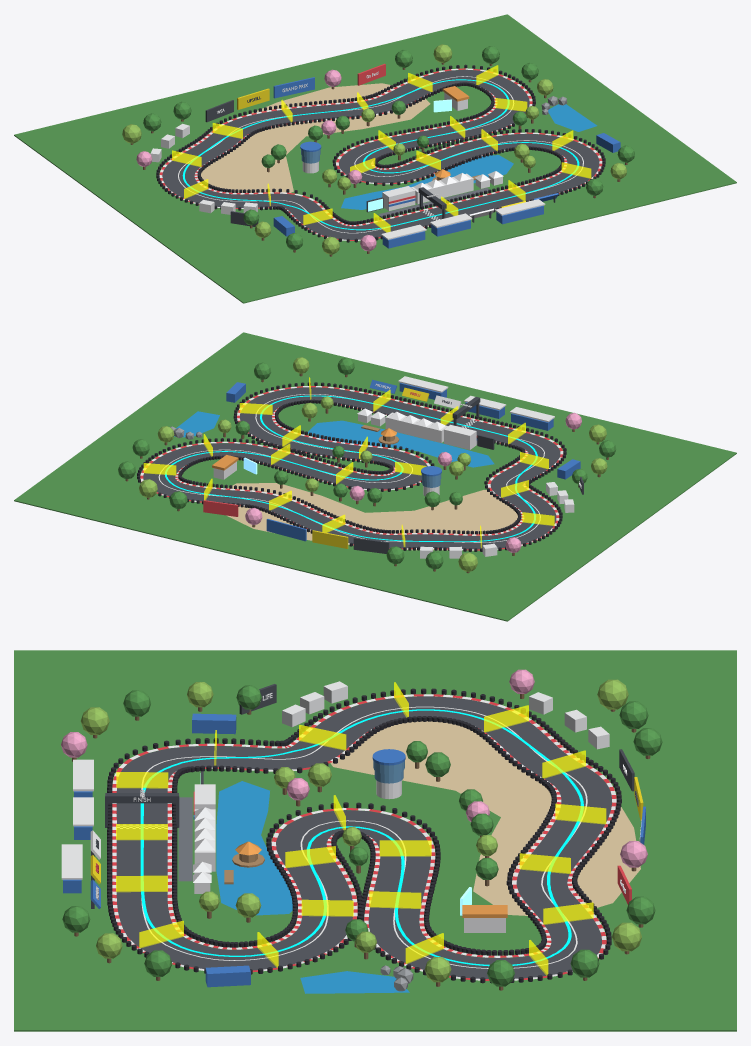
The model's file is grand_prix_circuit.fbx.
The picture shows the model from 3 angles, top to bottom: view 1: azimuth 30°, elevation 25°; view 2: azimuth 150°, elevation 25°; view 3: azimuth 270°, elevation 25°; orthographic projection. The views are drawn at different scales.
Visible parts, largest first — view 1: Grass, Asphalt, Tire_Barrier, Sand_Runoff, Kerb, Water_Pond, Racing_Line, Road_Center_Line, Pit_Garage_Main, Pit_Control_Wing, Billboard_GRAND_PRIX; view 2: Grass, Asphalt, Tire_Barrier, Sand_Runoff, Kerb, Water_Pond, Racing_Line, Road_Center_Line, Pit_Garage_Main, Pit_Control_Wing, Billboard_GRAND_PRIX; view 3: Grass, Asphalt, Sand_Runoff, Tire_Barrier, Kerb, Water_Pond, Racing_Line, Road_Center_Line, Pit_Lane, Grandstand_East, Grandstand_West, Checkpoint_13 (+26 smaller).
Boxes of the visible parts, x1=… form: Grass: x1=14, y1=14, x2=736, y2=303; Asphalt: x1=162, y1=69, x2=599, y2=239; Tire_Barrier: x1=156, y1=64, x2=605, y2=242; Sand_Runoff: x1=186, y1=83, x2=430, y2=194; Kerb: x1=159, y1=68, x2=602, y2=240; Water_Pond: x1=341, y1=104, x2=597, y2=209; Racing_Line: x1=182, y1=79, x2=579, y2=230; Road_Center_Line: x1=178, y1=76, x2=583, y2=233; Pit_Garage_Main: x1=411, y1=173, x2=473, y2=204; Pit_Control_Wing: x1=382, y1=186, x2=415, y2=210; Billboard_GRAND_PRIX: x1=273, y1=77, x2=314, y2=98; Grass: x1=14, y1=332, x2=736, y2=621; Asphalt: x1=143, y1=387, x2=560, y2=549; Tire_Barrier: x1=137, y1=382, x2=566, y2=551; Sand_Runoff: x1=226, y1=483, x2=520, y2=550; Kerb: x1=140, y1=386, x2=563, y2=550; Water_Pond: x1=174, y1=411, x2=494, y2=467; Racing_Line: x1=165, y1=395, x2=537, y2=541; Road_Center_Line: x1=158, y1=394, x2=544, y2=542; Pit_Garage_Main: x1=385, y1=412, x2=447, y2=442; Pit_Control_Wing: x1=444, y1=424, x2=476, y2=449; Billboard_GRAND_PRIX: x1=266, y1=519, x2=306, y2=541; Grass: x1=14, y1=650, x2=736, y2=1031; Asphalt: x1=116, y1=696, x2=612, y2=978; Sand_Runoff: x1=330, y1=696, x2=640, y2=915; Tire_Barrier: x1=107, y1=688, x2=621, y2=983; Kerb: x1=112, y1=694, x2=616, y2=980; Water_Pond: x1=216, y1=781, x2=409, y2=993; Racing_Line: x1=140, y1=709, x2=583, y2=966; Road_Center_Line: x1=141, y1=706, x2=587, y2=968; Pit_Lane: x1=178, y1=797, x2=192, y2=881; Grandstand_East: x1=205, y1=965, x2=250, y2=987; Grandstand_West: x1=192, y1=713, x2=236, y2=734; Checkpoint_13: x1=379, y1=840, x2=431, y2=856.
Size of what is drawn, in the model's own units: 15400 by 763 by 12400.
